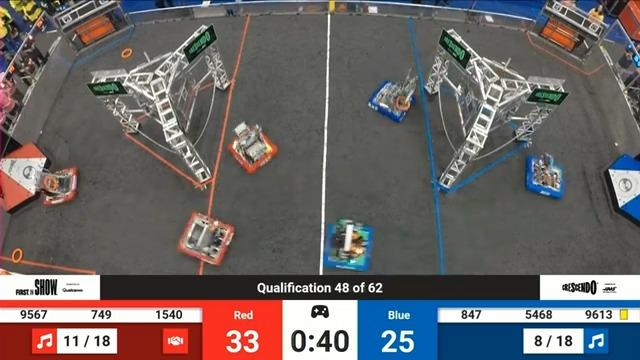robot: (177, 208, 239, 269), (319, 218, 382, 273), (225, 118, 281, 176), (369, 69, 422, 127), (527, 151, 569, 202), (31, 164, 82, 206)
